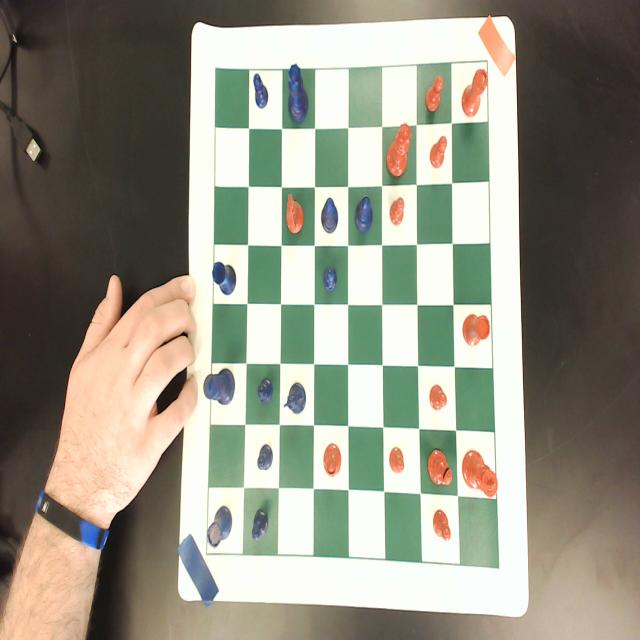B: (355, 195, 373, 232), (321, 197, 338, 234)
K: (203, 367, 236, 408)
N: (282, 381, 308, 418)
P: (252, 72, 269, 109), (251, 509, 269, 542), (256, 443, 274, 473), (258, 378, 273, 406), (322, 266, 338, 292)
Q: (288, 62, 308, 124)
R: (207, 504, 232, 549), (212, 260, 236, 296)
b: (427, 448, 452, 486), (323, 442, 342, 478)
cb: (207, 61, 499, 568)
k: (461, 448, 498, 500)
n: (286, 192, 305, 235)
p: (424, 74, 444, 114), (429, 134, 448, 170), (432, 509, 452, 541), (429, 381, 447, 410), (389, 195, 404, 227), (389, 445, 405, 474)
q: (386, 121, 412, 177)
r: (462, 67, 488, 118), (463, 314, 490, 346)
